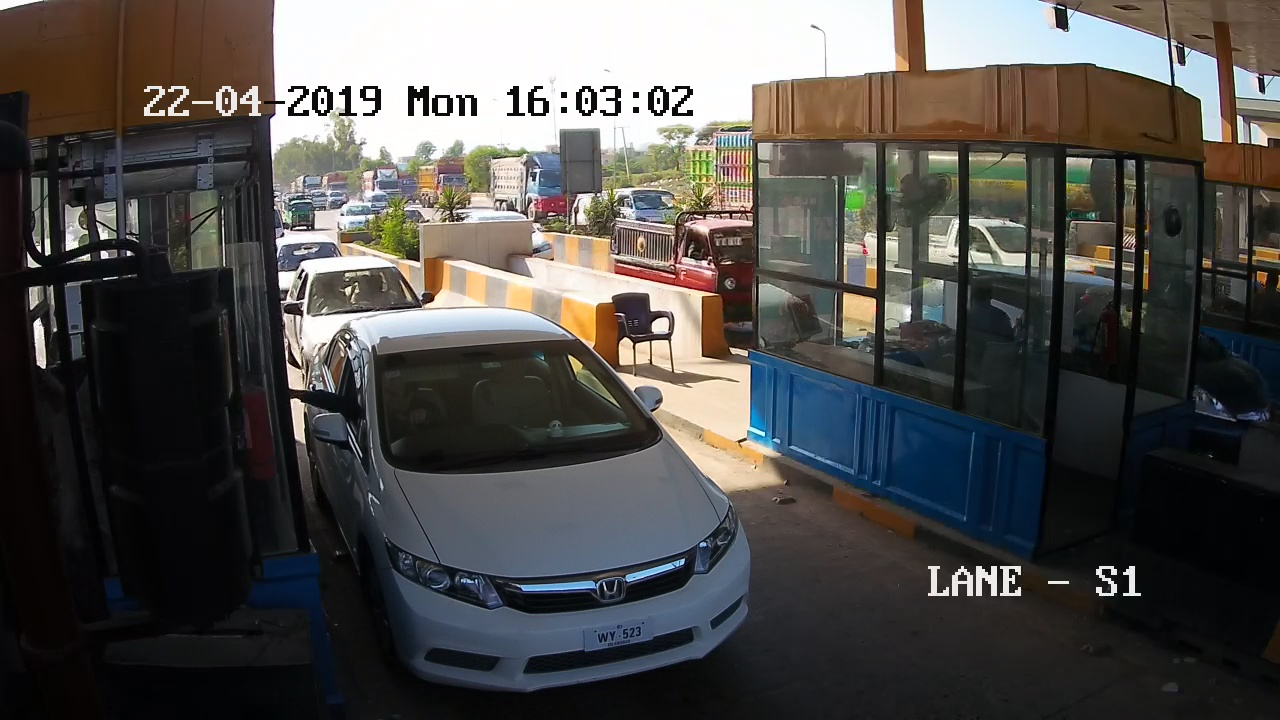Number Plate (Car): (582, 621, 660, 651)
